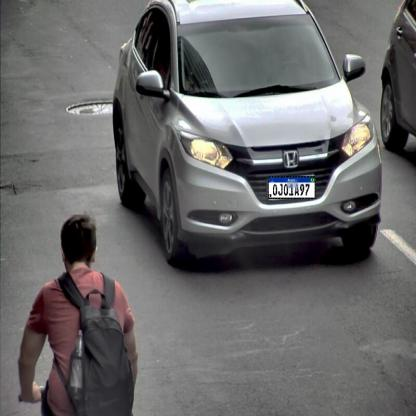PlacaM: (268, 176, 316, 199)
